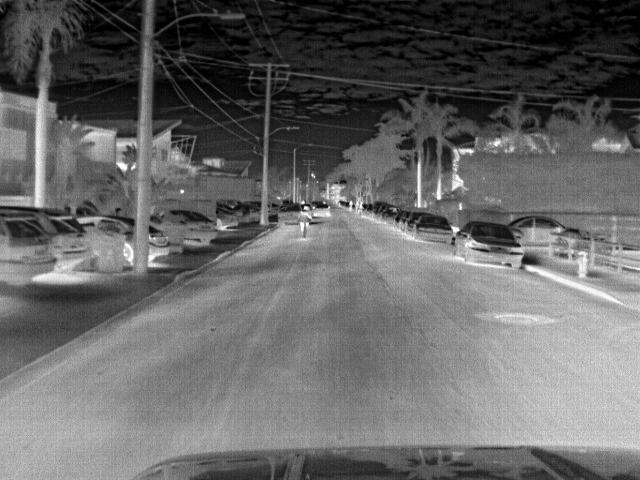car: (2, 205, 92, 257), (2, 207, 58, 286), (449, 219, 525, 271), (74, 214, 136, 262), (507, 218, 577, 244), (170, 208, 218, 244), (415, 218, 459, 246), (152, 224, 173, 261), (407, 212, 433, 236), (217, 207, 240, 230), (381, 204, 402, 222), (313, 204, 333, 220), (371, 200, 389, 216)
person: (300, 206, 314, 236)
